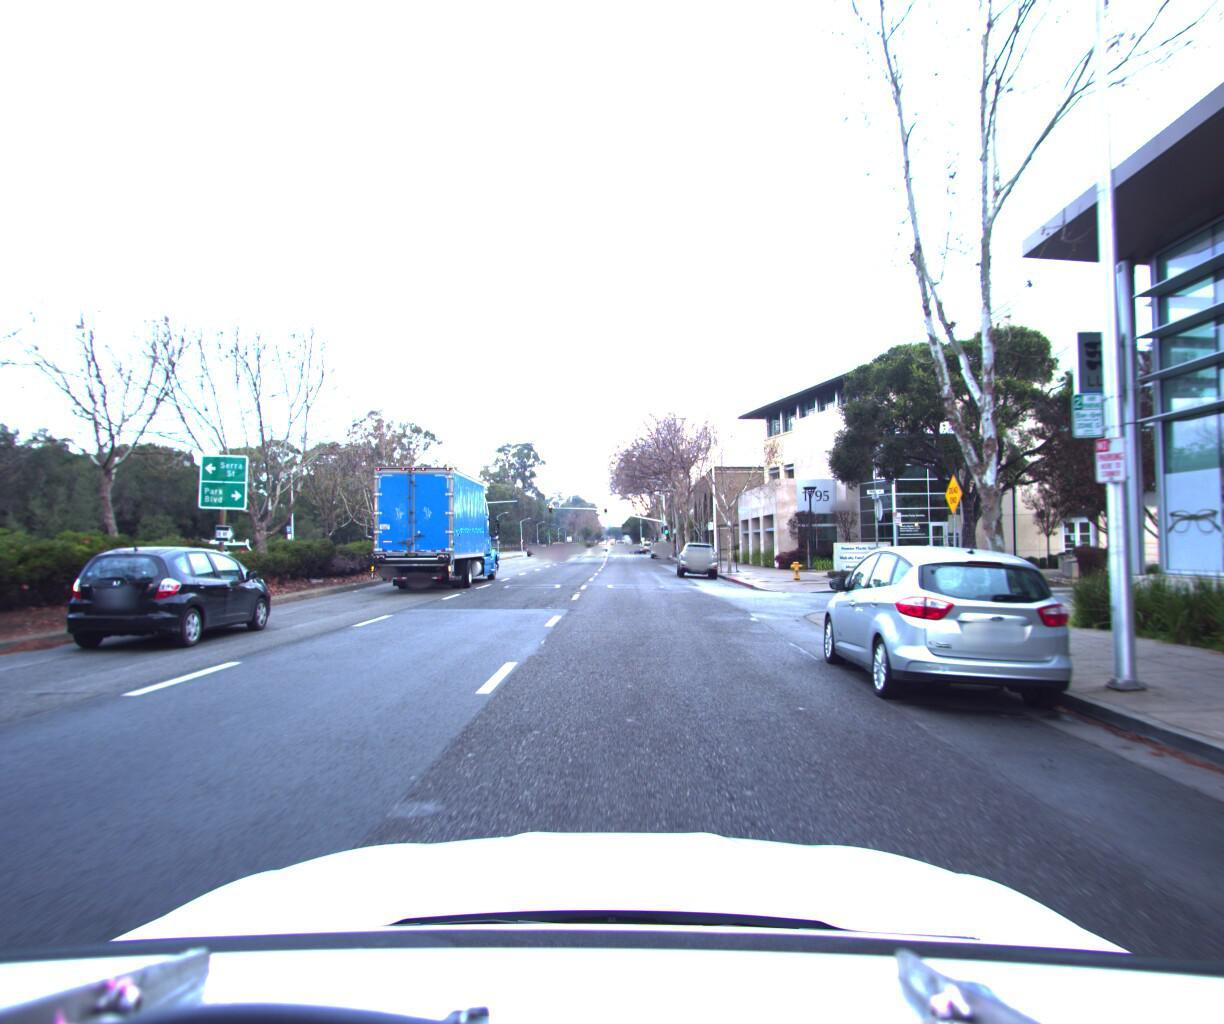car: (819, 535, 1086, 724), (69, 546, 284, 657), (174, 522, 273, 559), (677, 534, 718, 573), (650, 535, 668, 552)
truck: (350, 447, 510, 590)
